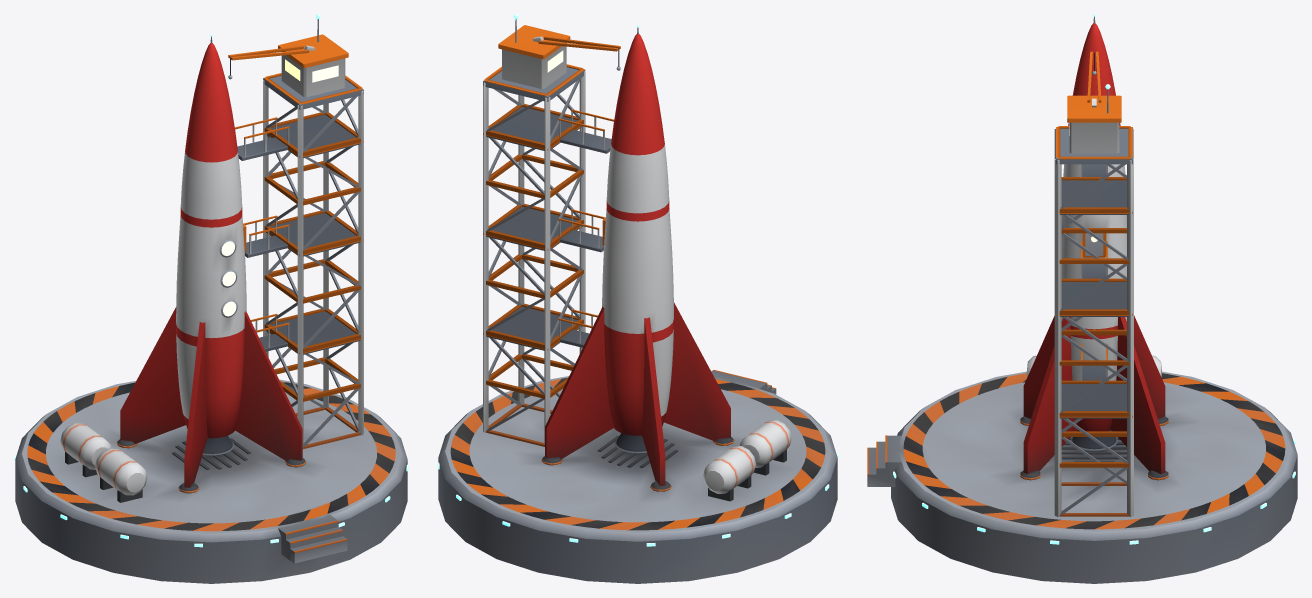
File: moon_rocket.glb
3 renders of one model, left to right at view 1: azimuth 30°, elevation 25°; view 2: azimuth 150°, elevation 25°; view 3: azimuth 270°, elevation 25°, orthographic. The views are drawn at different scales.
Visible parts, largest first — view 1: moon_rocket; view 2: moon_rocket; view 3: moon_rocket.
Part boxes in pixels (left/top/right/bottom): moon_rocket: left=14, top=14, right=408, bottom=583; moon_rocket: left=437, top=14, right=838, bottom=583; moon_rocket: left=867, top=14, right=1297, bottom=583.
Bounding box in the file's own units: 18 × 23.63 × 19.06.
